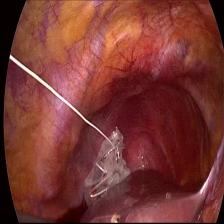Specimen Bag: (82, 110, 147, 204)
